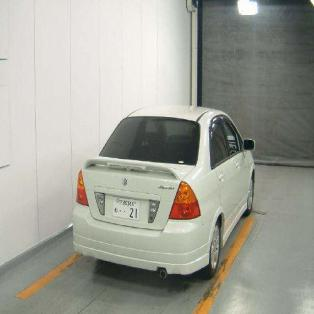Auto: (72, 105, 256, 278)
